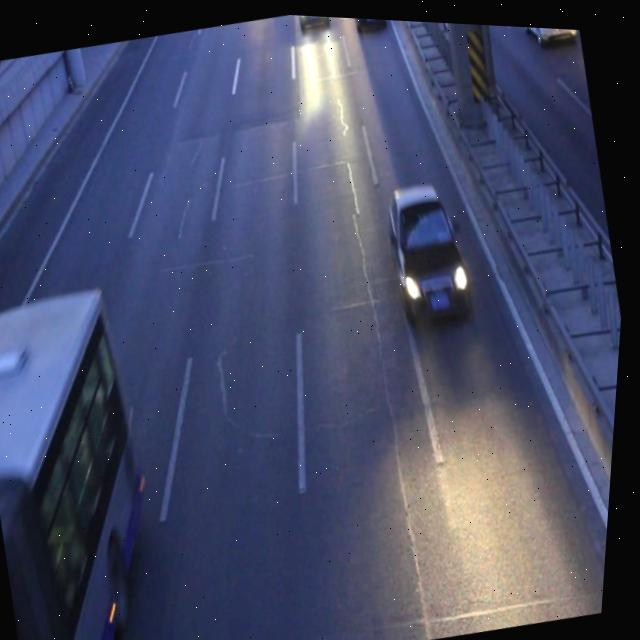car: (381, 174, 482, 321), (515, 21, 575, 38), (298, 12, 328, 26), (351, 14, 384, 23)
van: (0, 284, 194, 640)
